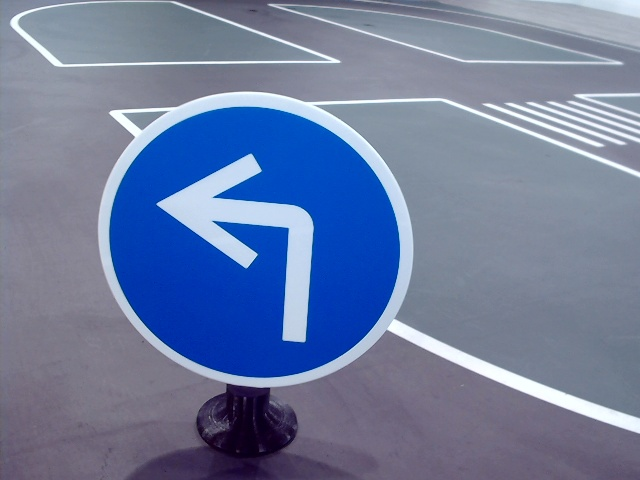turn_left: (152, 138, 323, 345)
